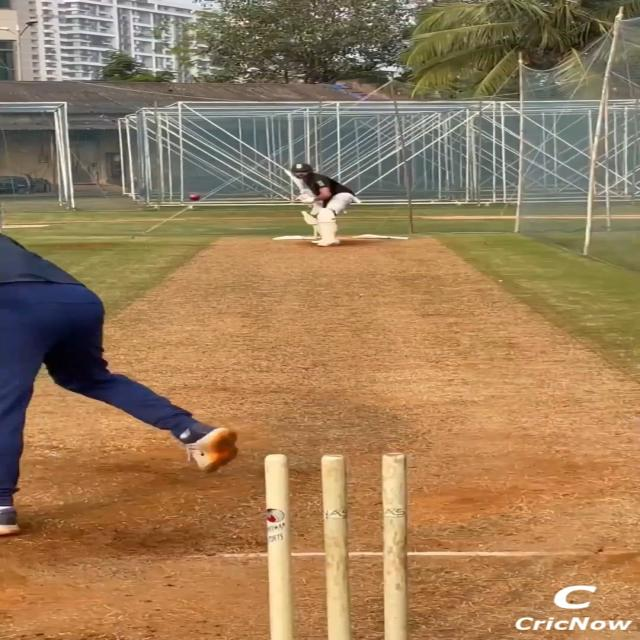Cricket ball: (260, 450, 418, 640), (188, 194, 203, 201)
